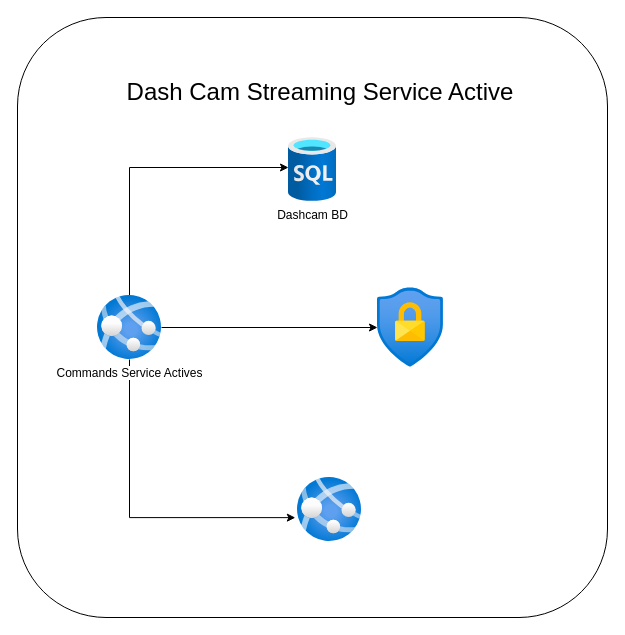
This 625x635 diagram has some shape labels left out. The centre of each missing label's shape, as x and y in pixels:
"Commands Api" belongs at point (329, 509).
"Keycloak" belongs at point (410, 327).
